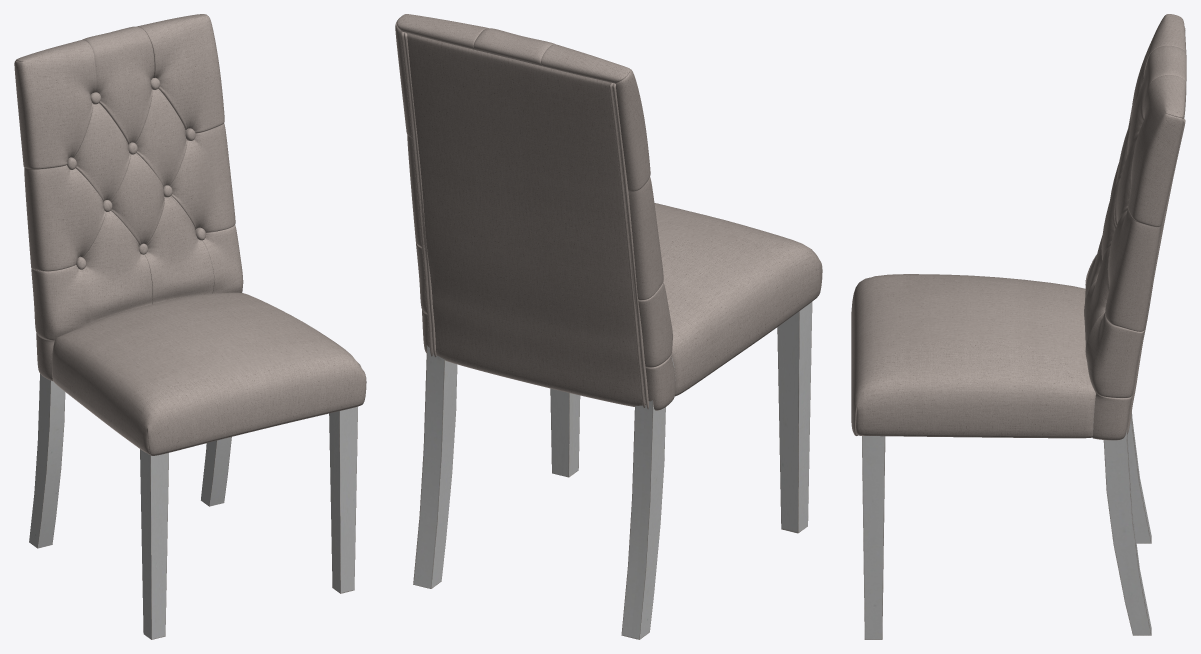
File: example69.gltf
3 renders of one model, left to right at view 1: azimuth 30°, elevation 25°; view 2: azimuth 150°, elevation 25°; view 3: azimuth 270°, elevation 25°, orthographic. The views are drawn at different scales.
Bounding box in the file's own units: 47.33 × 98.32 × 56.78.
Materials: 2 (2 with a texture image).
